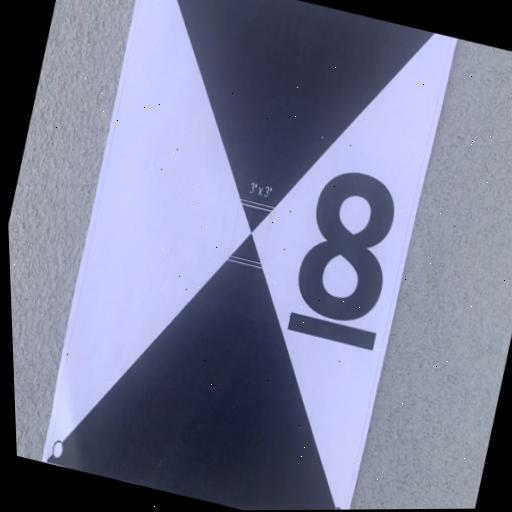target8: (21, 0, 468, 512)
